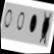correct: (28, 13, 38, 36)
not correct: (38, 10, 53, 45)
